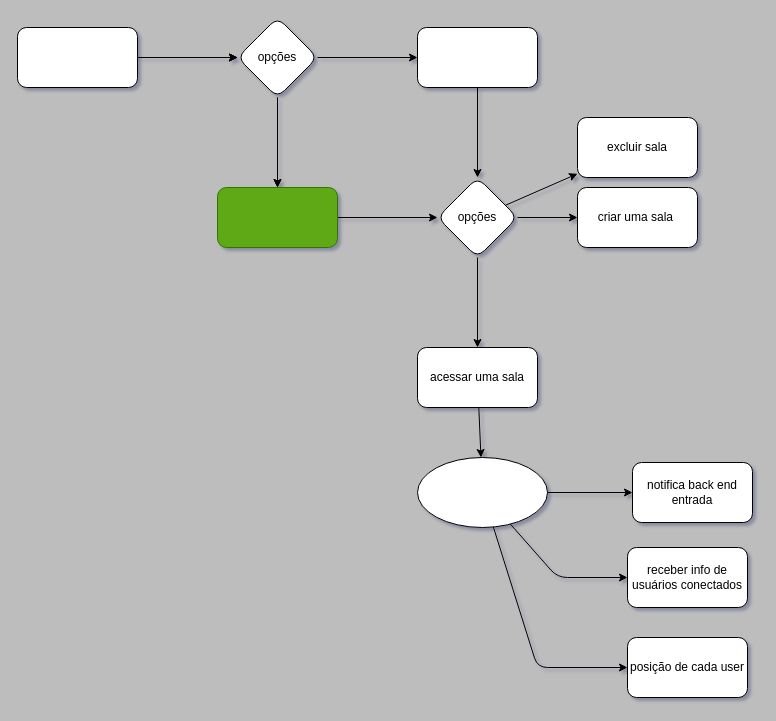
The diagram is 776 pixels wide and 721 high, and some of its shapes have lost their labels. Here are the shapes that lost their labels. From the top down, the centre of each, then its label:
the point at 77,57: acessar app
the point at 477,57: criar usuário
the point at 277,217: fazer login
the point at 482,492: atualizar em real time usuários
